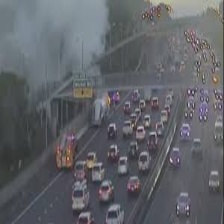smoke: (3, 1, 112, 104)
